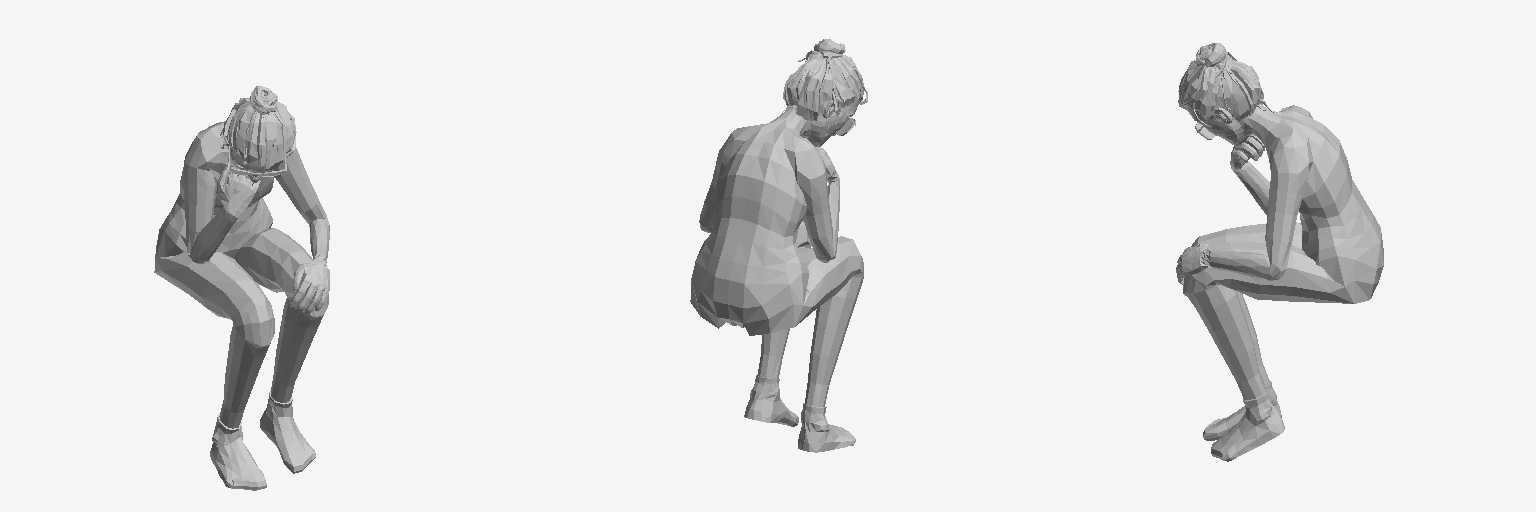
File: mariav2.obj
3 renders of one model, left to right at view 1: azimuth 30°, elevation 25°; view 2: azimuth 150°, elevation 25°; view 3: azimuth 270°, elevation 25°, orthographic.
Parts seen in each view (by area): view 1: mariav2; view 2: mariav2; view 3: mariav2.
Boxes of the visible parts, box(x1,y1,x2,y2) form: mariav2: box(154, 86, 329, 490); mariav2: box(690, 39, 867, 452); mariav2: box(1176, 43, 1383, 461).
Size of the model in its own units: 46.9 by 129 by 61.16.